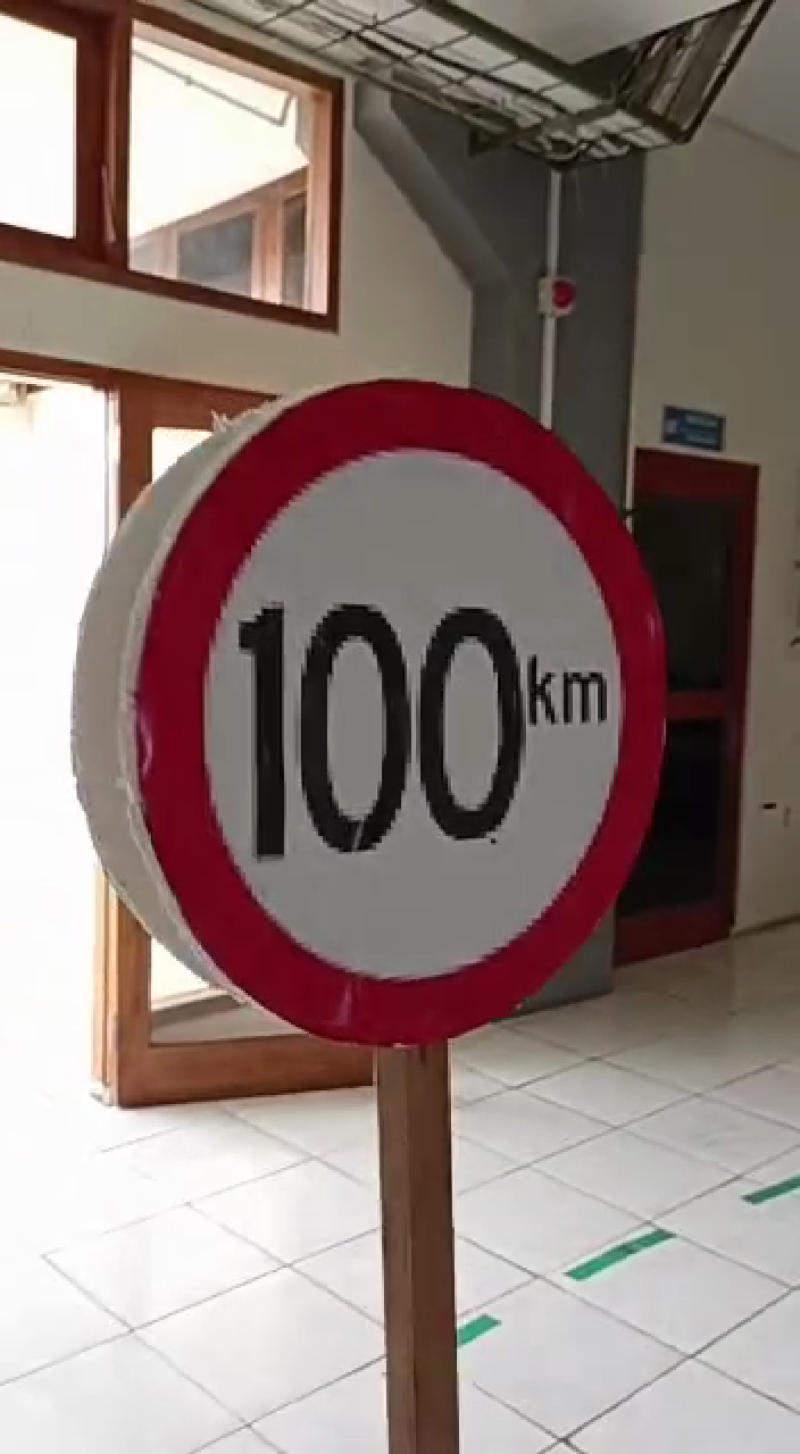batas maksimal 100kmperjam: (133, 364, 687, 1055)
